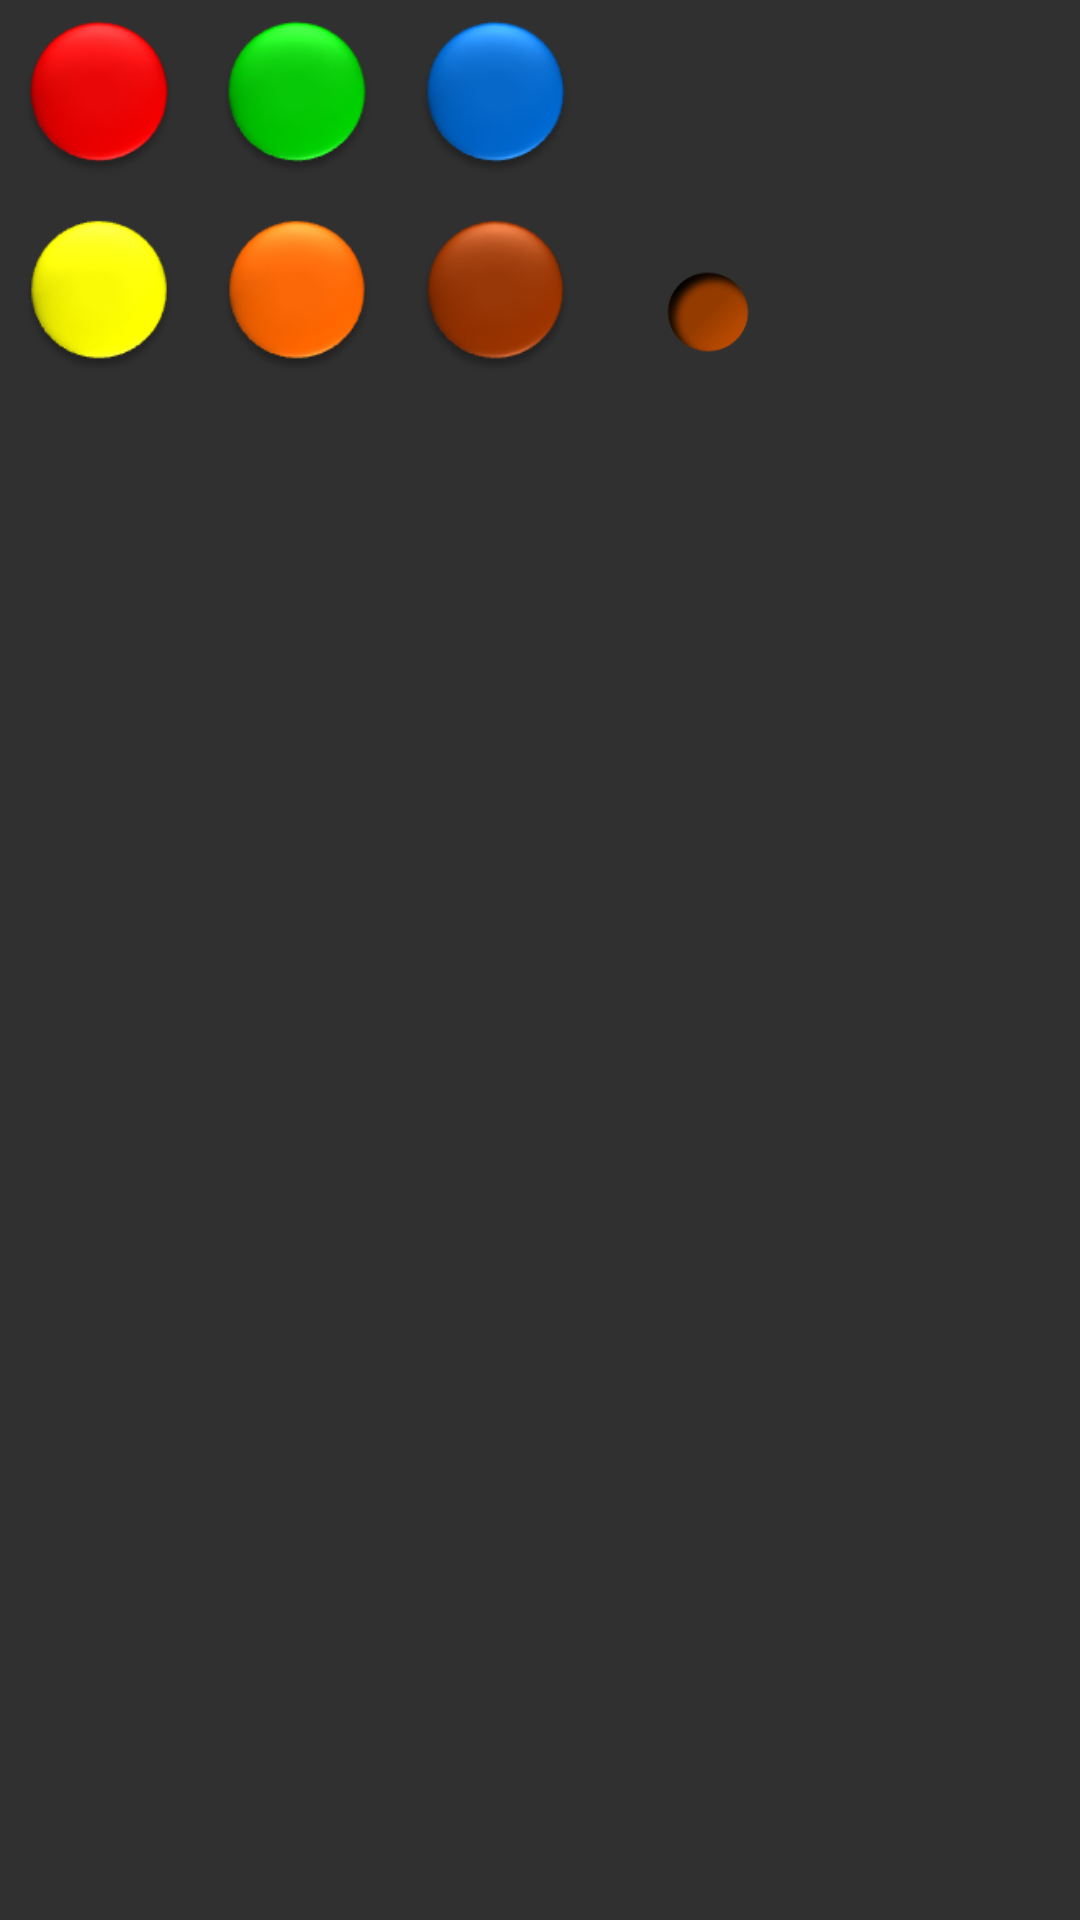

Where icons sit on this 1080px x 1920px app screen, as [x1=x1, y1=y1, x2=x2, y2=y2]:
Blue: [x1=427, y1=21, x2=564, y2=161]
Brown: [x1=428, y1=221, x2=563, y2=358]
Green: [x1=228, y1=21, x2=366, y2=161]
Orange: [x1=229, y1=221, x2=365, y2=359]
Red: [x1=30, y1=21, x2=168, y2=161]
Yellow: [x1=31, y1=221, x2=167, y2=359]
